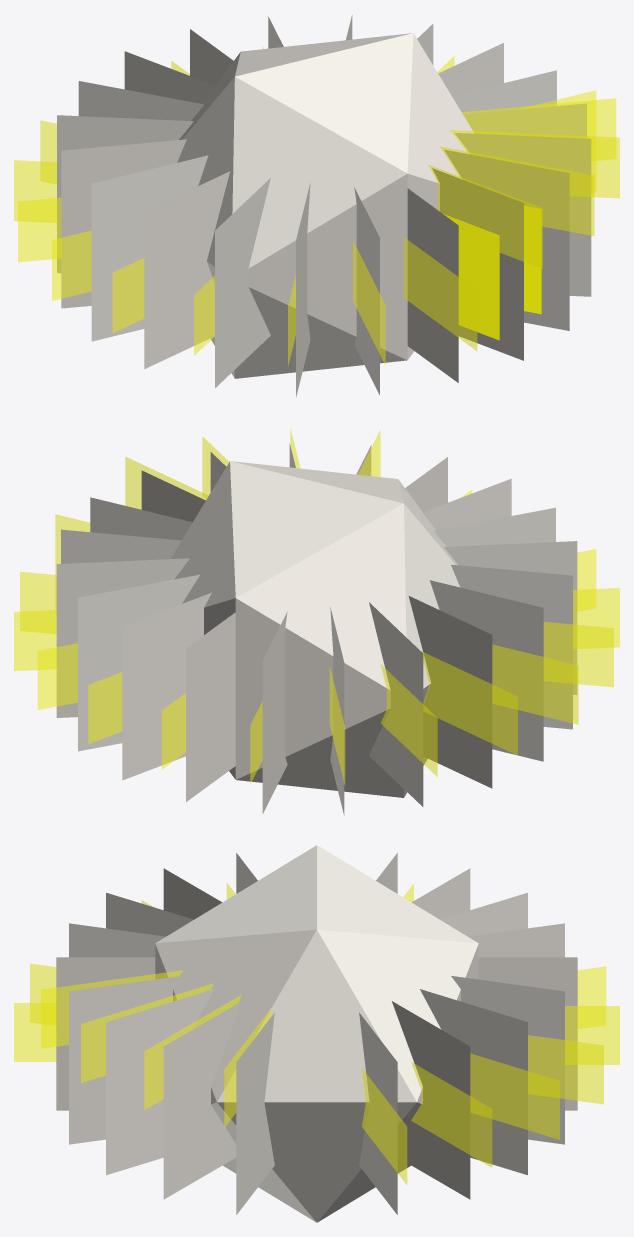
The model's file is icosahedron.glb.
The picture shows the model from 3 angles, top to bottom: view 1: azimuth 30°, elevation 25°; view 2: azimuth 150°, elevation 25°; view 3: azimuth 270°, elevation 25°; orthographic projection. The views are drawn at different scales.
Visible parts, largest first — view 1: TriQR_Body, TriQR_Label (×13), TriQR_FaceSurface_face-10, TriQR_FaceSurface_face-11, TriQR_FaceSurface_face-6, TriQR_FaceSurface_face-4, TriQR_FaceSurface_face-12, TriQR_FaceSurface_face-5, TriQR_FaceSurface_face-9, TriQR_FaceSurface_face-3, TriQR_QR_face-5, TriQR_FaceSurface_face-13 (+9 smaller); view 2: TriQR_Body, TriQR_Label (×17), TriQR_FaceSurface_face-12, TriQR_FaceSurface_face-17, TriQR_FaceSurface_face-11, TriQR_FaceSurface_face-18, TriQR_FaceSurface_face-16, TriQR_FaceSurface_face-10, TriQR_FaceSurface_face-13, TriQR_FaceSurface_face-19, TriQR_FaceSurface_face-9, TriQR_FaceSurface_face-15 (+7 smaller); view 3: TriQR_Body, TriQR_Label (×12), TriQR_FaceSurface_face-18, TriQR_FaceSurface_face-4, TriQR_FaceSurface_face-3, TriQR_FaceSurface_face-19, TriQR_FaceSurface_face-17, TriQR_FaceSurface_face-5, TriQR_FaceSurface_face-2, TriQR_FaceSurface_face-20, TriQR_FaceSurface_face-16, TriQR_FaceSurface_face-6 (+6 smaller).
Part boxes in pixels (x1=…): TriQR_Body: x1=177, y1=33, x2=474, y2=378; TriQR_Label (×13): x1=14, y1=90, x2=619, y2=364; TriQR_FaceSurface_face-10: x1=144, y1=171, x2=230, y2=368; TriQR_FaceSurface_face-11: x1=91, y1=155, x2=208, y2=341; TriQR_FaceSurface_face-6: x1=407, y1=188, x2=458, y2=382; TriQR_FaceSurface_face-4: x1=444, y1=149, x2=569, y2=330; TriQR_FaceSurface_face-12: x1=61, y1=139, x2=186, y2=308; TriQR_FaceSurface_face-5: x1=432, y1=168, x2=523, y2=360; TriQR_FaceSurface_face-9: x1=215, y1=178, x2=270, y2=387; TriQR_FaceSurface_face-3: x1=455, y1=133, x2=591, y2=296; TriQR_QR_face-5: x1=443, y1=214, x2=499, y2=340; TriQR_FaceSurface_face-13: x1=57, y1=115, x2=193, y2=273; TriQR_Body: x1=170, y1=461, x2=460, y2=797; TriQR_Label (×17): x1=14, y1=430, x2=619, y2=785; TriQR_FaceSurface_face-12: x1=408, y1=596, x2=492, y2=788; TriQR_FaceSurface_face-17: x1=122, y1=592, x2=211, y2=780; TriQR_FaceSurface_face-11: x1=429, y1=580, x2=543, y2=761; TriQR_FaceSurface_face-18: x1=78, y1=574, x2=199, y2=751; TriQR_FaceSurface_face-16: x1=186, y1=612, x2=235, y2=801; TriQR_FaceSurface_face-10: x1=451, y1=564, x2=572, y2=729; TriQR_FaceSurface_face-13: x1=369, y1=602, x2=423, y2=806; TriQR_FaceSurface_face-19: x1=56, y1=558, x2=189, y2=717; TriQR_FaceSurface_face-9: x1=444, y1=541, x2=577, y2=694; TriQR_FaceSurface_face-15: x1=262, y1=611, x2=287, y2=813; TriQR_Body: x1=155, y1=845, x2=478, y2=1222; TriQR_Label (×12): x1=14, y1=963, x2=619, y2=1184; TriQR_FaceSurface_face-18: x1=420, y1=989, x2=527, y2=1175; TriQR_FaceSurface_face-4: x1=106, y1=989, x2=213, y2=1175; TriQR_FaceSurface_face-3: x1=163, y1=1001, x2=241, y2=1199; TriQR_FaceSurface_face-19: x1=392, y1=1001, x2=470, y2=1199; TriQR_FaceSurface_face-17: x1=451, y1=976, x2=564, y2=1144; TriQR_FaceSurface_face-5: x1=69, y1=976, x2=182, y2=1144; TriQR_FaceSurface_face-2: x1=236, y1=1012, x2=274, y2=1214; TriQR_FaceSurface_face-20: x1=359, y1=1012, x2=397, y2=1214; TriQR_FaceSurface_face-16: x1=478, y1=957, x2=577, y2=1110; TriQR_FaceSurface_face-6: x1=56, y1=957, x2=155, y2=1110.
Bounding box in the file's own units: 4.3 × 2.3 × 4.3.
Materials: 45 (24 with a texture image).
